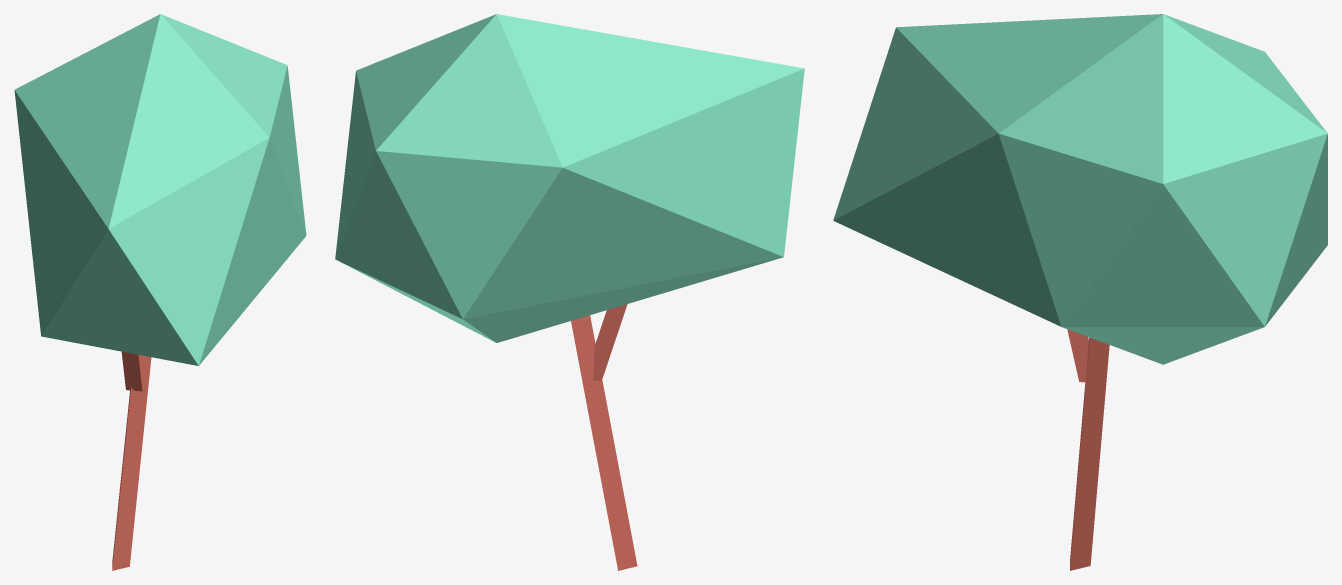
File: tree_02.dae
3 renders of one model, left to right at view 1: azimuth 30°, elevation 25°; view 2: azimuth 150°, elevation 25°; view 3: azimuth 270°, elevation 25°, orthographic. The views are drawn at different scales.
Parts seen in each view (by area): view 1: Icosphere.001, tree_2, Cylinder.001; view 2: Icosphere.001, tree_2, Cylinder.001; view 3: Icosphere.001, tree_2, Cylinder.001.
Part boxes in pixels (x1,y1,x2,y2): Icosphere.001: (14, 14, 306, 365); tree_2: (112, 355, 151, 570); Cylinder.001: (121, 351, 142, 391); Icosphere.001: (335, 14, 804, 342); tree_2: (571, 315, 637, 570); Cylinder.001: (593, 304, 627, 381); Icosphere.001: (833, 14, 1327, 364); tree_2: (1070, 337, 1109, 570); Cylinder.001: (1067, 329, 1088, 382).
Size of the model in its own units: 12.52 by 14.36 by 19.14.
